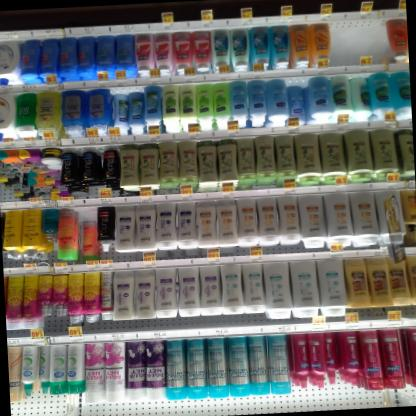empty_space: (329, 19, 386, 66), (76, 205, 96, 227)
